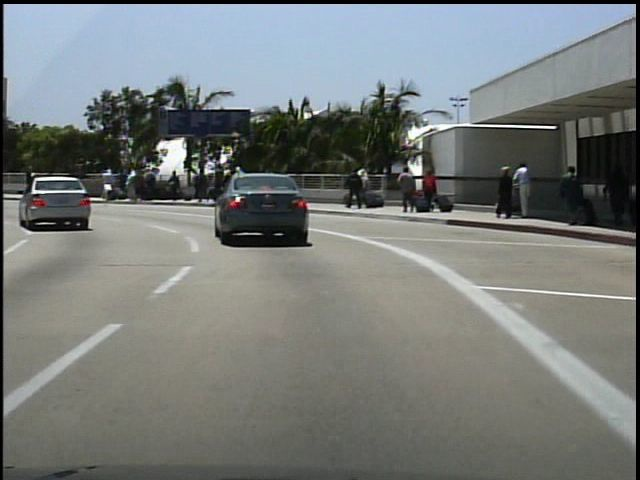person: (602, 157, 632, 229), (556, 164, 587, 228), (513, 161, 535, 220), (495, 164, 517, 221), (396, 165, 419, 215), (344, 168, 366, 211), (422, 168, 441, 212), (66, 167, 87, 197), (51, 167, 67, 200), (29, 165, 35, 199)
